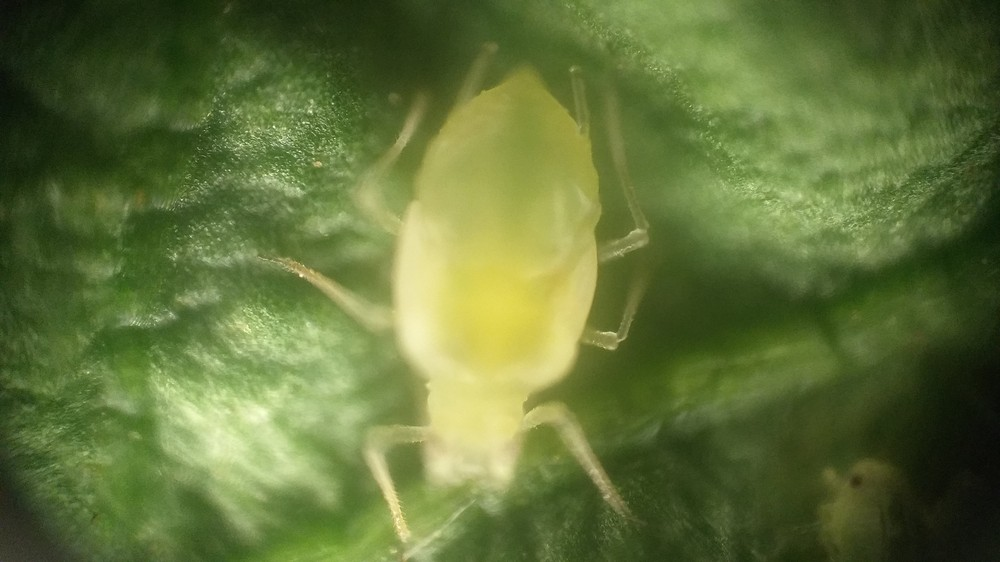Pulgon: (272, 42, 703, 549)
